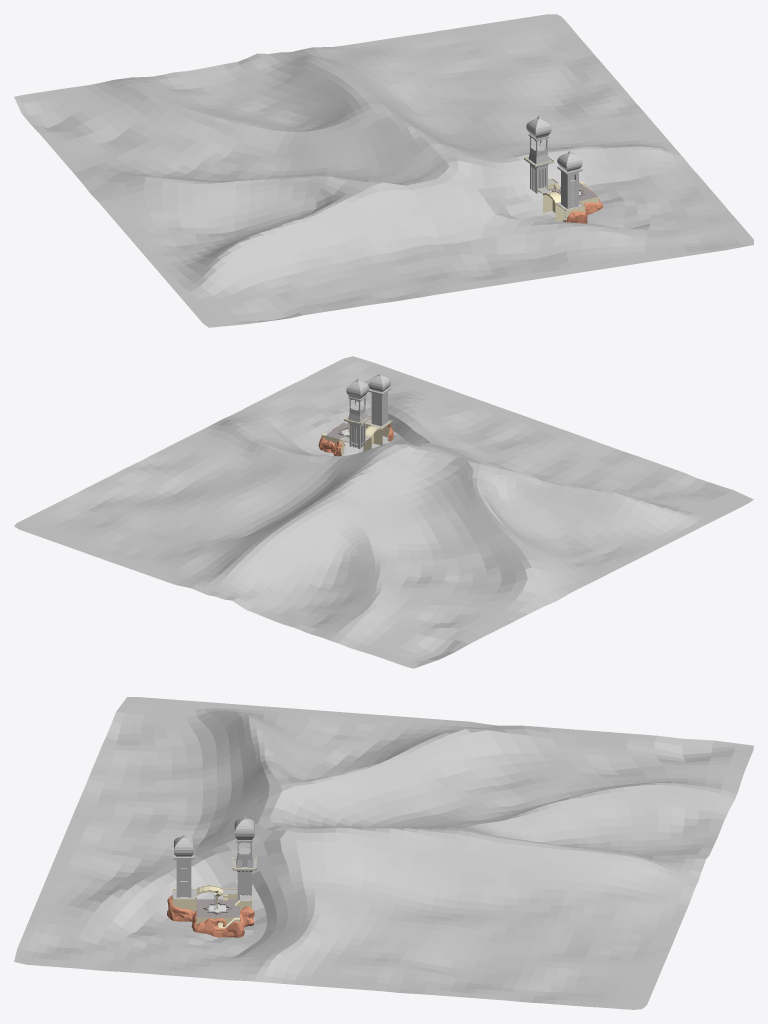
The model's file is castle_5.FBX.
3 renders of one model, top to bottom at view 1: azimuth 30°, elevation 25°; view 2: azimuth 150°, elevation 25°; view 3: azimuth 270°, elevation 25°, orthographic. The views are drawn at different scales.
Parts seen in each view (by area): view 1: ground_3, tower 1, tower 2, lower castle; view 2: ground_3, tower 1, tower 2, lower castle; view 3: ground_3, rocks, tower 1, tower 2, lower castle, central cap.
Part boxes in pixels (box(x1,y1,x2,y2)): ground_3: box(14, 14, 753, 327); tower 1: box(524, 115, 553, 193); tower 2: box(557, 151, 582, 208); lower castle: box(543, 183, 598, 221); ground_3: box(14, 356, 753, 668); tower 1: box(344, 378, 371, 448); tower 2: box(368, 373, 391, 426); lower castle: box(325, 421, 392, 455); ground_3: box(14, 697, 753, 1009); rocks: box(167, 895, 254, 937); tower 1: box(232, 815, 256, 900); tower 2: box(173, 835, 194, 897); lower castle: box(172, 885, 251, 926); central cap: box(196, 899, 239, 917).
Bounding box in the file's own units: 1229 × 194 × 1229.
